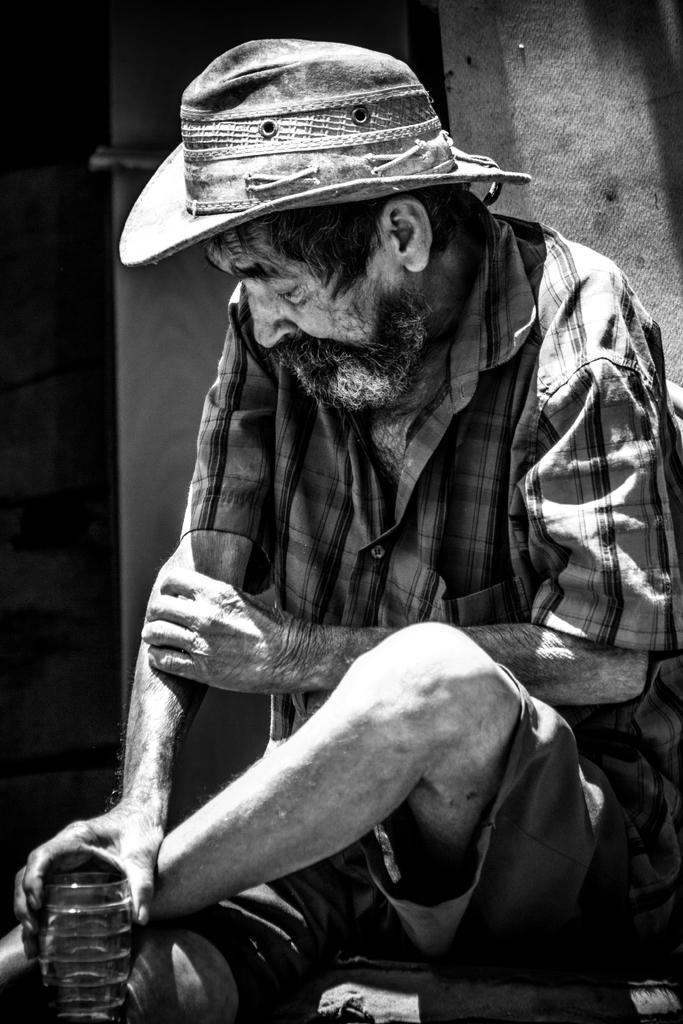Hat: (116, 34, 531, 270)
